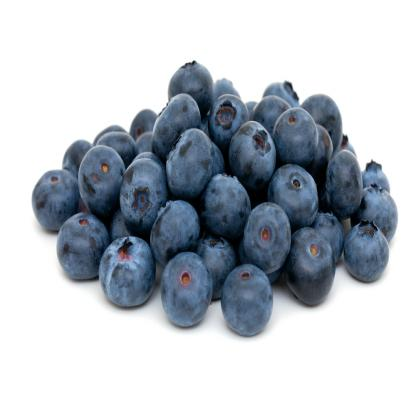blueberry: (160, 253, 214, 330), (98, 235, 154, 306), (223, 260, 272, 337), (285, 230, 334, 305), (56, 212, 110, 280), (245, 199, 292, 274), (148, 195, 199, 263), (165, 129, 215, 196), (120, 159, 165, 231), (31, 168, 80, 234), (269, 164, 320, 226), (230, 122, 276, 188), (80, 146, 123, 216), (152, 94, 199, 157), (274, 107, 320, 167), (326, 149, 362, 220), (203, 173, 247, 231), (170, 60, 214, 117), (346, 225, 390, 280), (355, 184, 396, 238), (207, 89, 247, 142)
